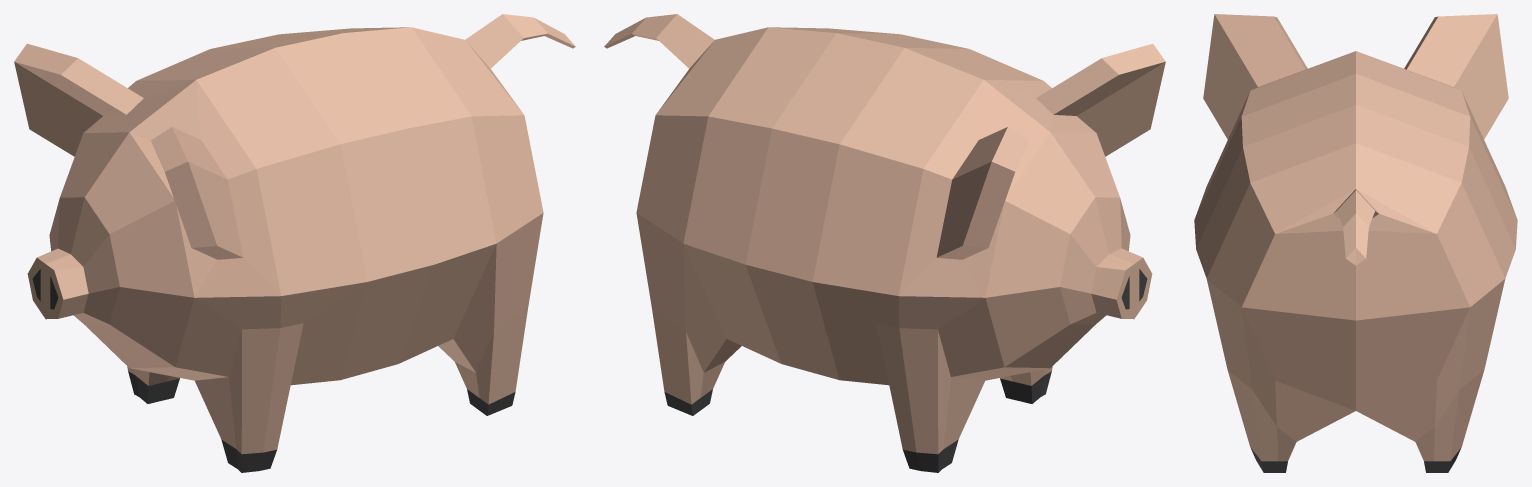
Rendered from Pig.fbx.
3 renders of one model, left to right at view 1: azimuth 30°, elevation 25°; view 2: azimuth 150°, elevation 25°; view 3: azimuth 270°, elevation 25°, orthographic. The views are drawn at different scales.
Visible parts, largest first — view 1: Sphere; view 2: Sphere; view 3: Sphere.
Boxes of the visible parts, x1,y1,x2,y2 form: Sphere: [14, 14, 575, 472]; Sphere: [604, 14, 1165, 472]; Sphere: [1194, 14, 1517, 472].
Size of the model in its own units: 134 by 88.25 by 80.78.
1 material, 1 textured.
